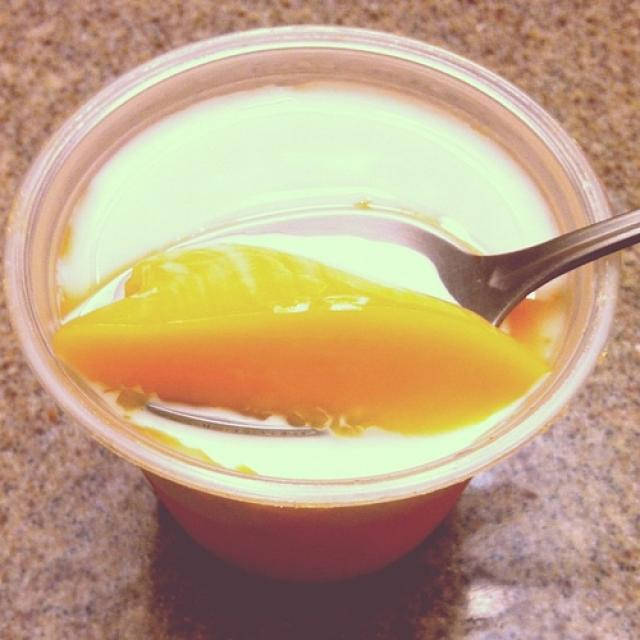蛋糕甜品: (13, 23, 626, 599)
